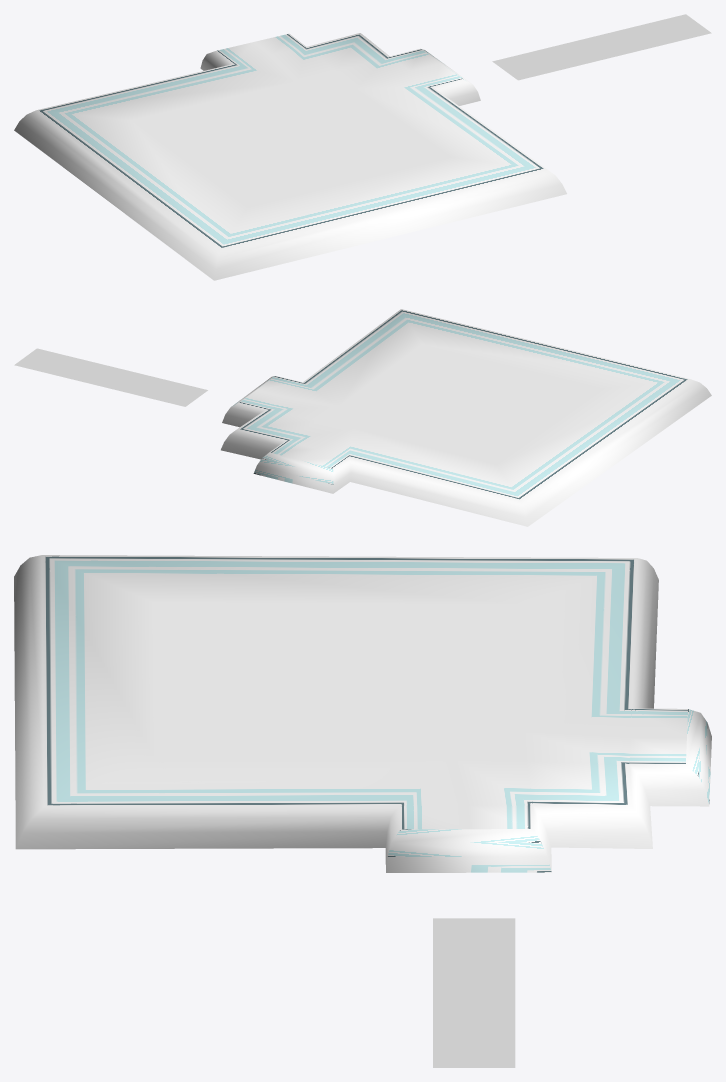
The model's file is PlatformWramp1.fbx.
The picture shows the model from 3 angles, top to bottom: view 1: azimuth 30°, elevation 25°; view 2: azimuth 150°, elevation 25°; view 3: azimuth 270°, elevation 25°; orthographic projection. The views are drawn at different scales.
Visible parts, largest first — view 1: Cube, Stairplane; view 2: Cube, Stairplane; view 3: Cube, Stairplane.
Part boxes in pixels (box(x1,y1,x2,y2)): Cube: box(14, 33, 566, 280); Stairplane: box(492, 14, 711, 80); Cube: box(221, 309, 711, 526); Stairplane: box(14, 348, 207, 406); Cube: box(14, 555, 711, 872); Stairplane: box(433, 918, 515, 1067).
Bounding box in the file's own units: 1285 × 47.89 × 780.
